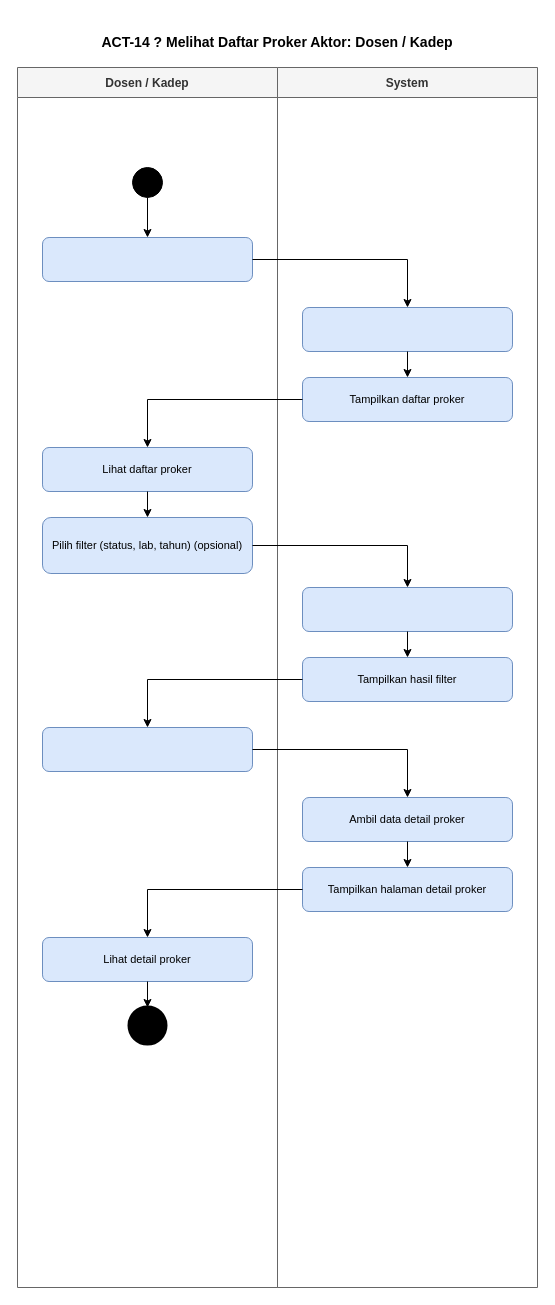
Image size: 555x1305. Some labels were removed from this diagram. Each missing label, with the centre of its shape:
Buka menu Daftar Proker: the point at 147,259
Cek autentikasi & role: the point at 407,329
Klik proker ? lihat detail (opsional): the point at 147,749
Perbarui tampilan sesuai filter: the point at 407,609
